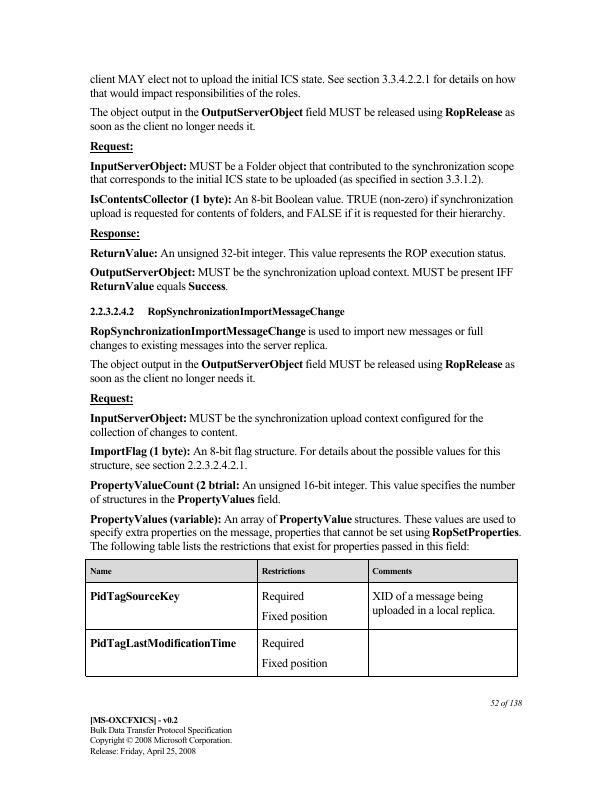table: (83, 557, 520, 679)
text: (88, 513, 520, 553), (88, 192, 514, 222), (86, 72, 517, 100), (86, 444, 502, 473), (86, 160, 514, 188), (86, 105, 519, 132), (87, 478, 517, 505), (88, 266, 514, 293), (87, 358, 518, 384), (86, 411, 485, 439), (86, 323, 484, 351), (86, 714, 236, 757), (88, 246, 509, 260), (87, 305, 345, 320), (86, 226, 143, 241), (86, 139, 136, 155), (88, 390, 136, 406), (482, 697, 527, 707)
